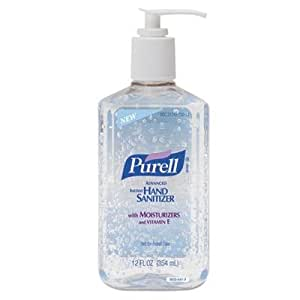Sanitizer: (96, 3, 217, 293)
